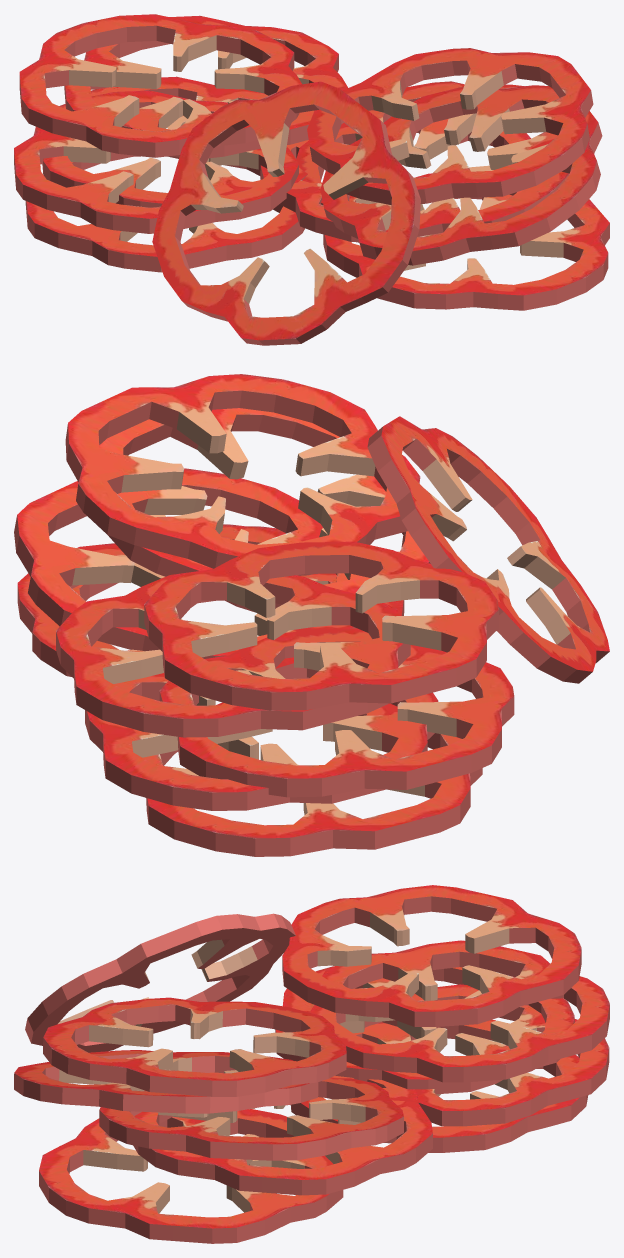
The model's file is paper table.fbx.
3 views of the same model, one above another, from view 1: azimuth 30°, elevation 25°; view 2: azimuth 150°, elevation 25°; view 3: azimuth 270°, elevation 25° (orthographic). The views are drawn at different scales.
Visible parts, largest first — view 1: Circle.001; view 2: Circle.001; view 3: Circle.001.
Boxes of the visible parts, <box> form: Circle.001: <box>14,14,609,345</box>; Circle.001: <box>14,374,609,856</box>; Circle.001: <box>14,885,609,1243</box>.
Size of the model in its own units: 29.96 by 12.14 by 33.27.
Materials: 3 (1 with a texture image).
